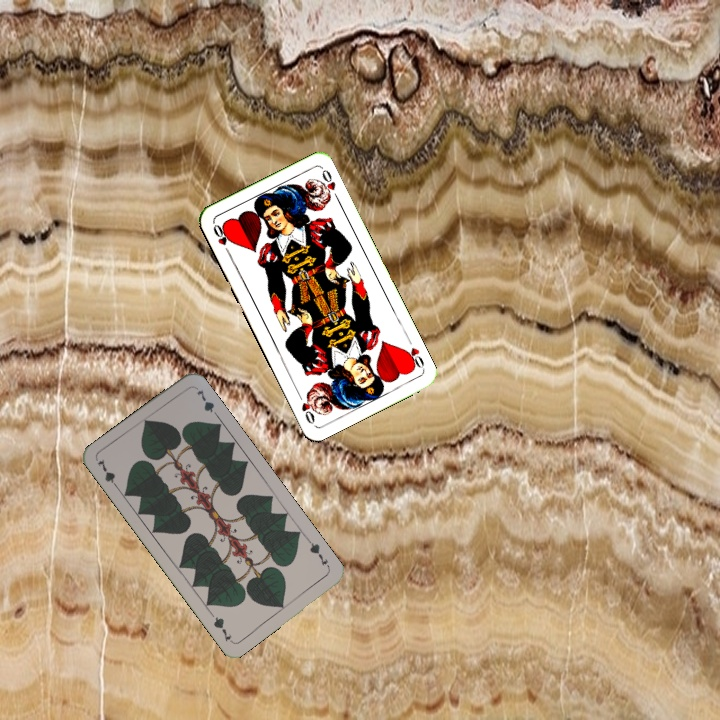G7: (93, 455, 122, 492), (304, 536, 332, 571)
HO: (400, 334, 427, 372), (209, 220, 233, 258)
